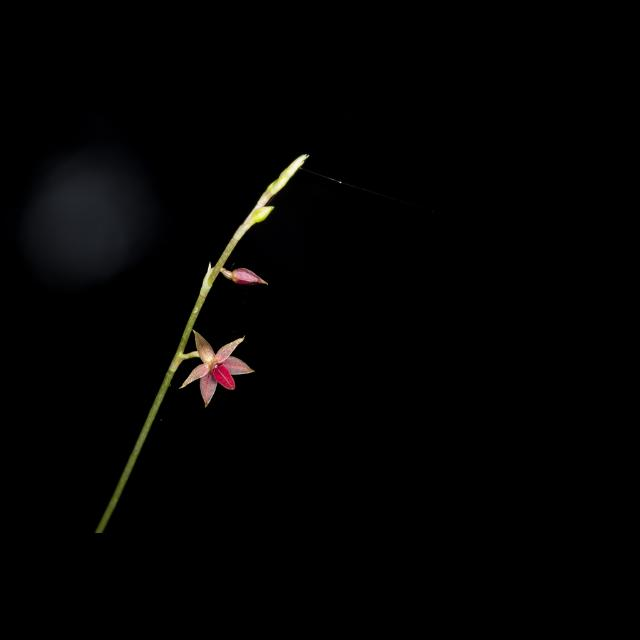Flower: (176, 324, 256, 404)
